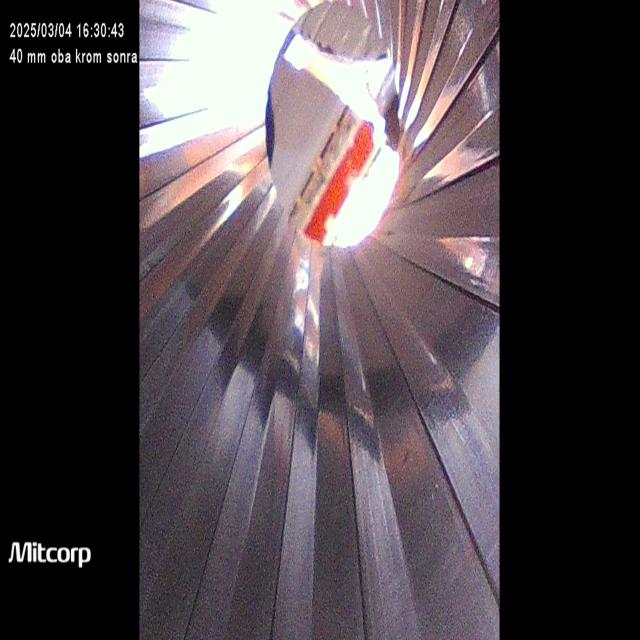hata_4.2: (385, 423, 423, 494)
